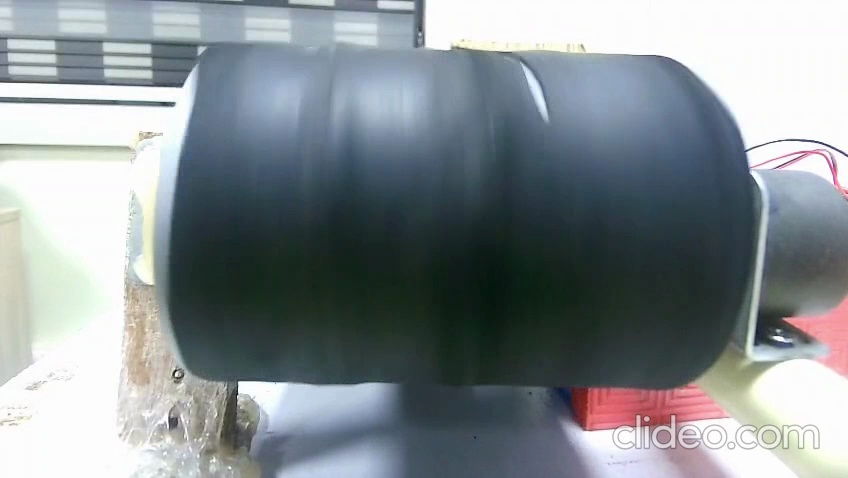tear: (517, 55, 557, 126)
